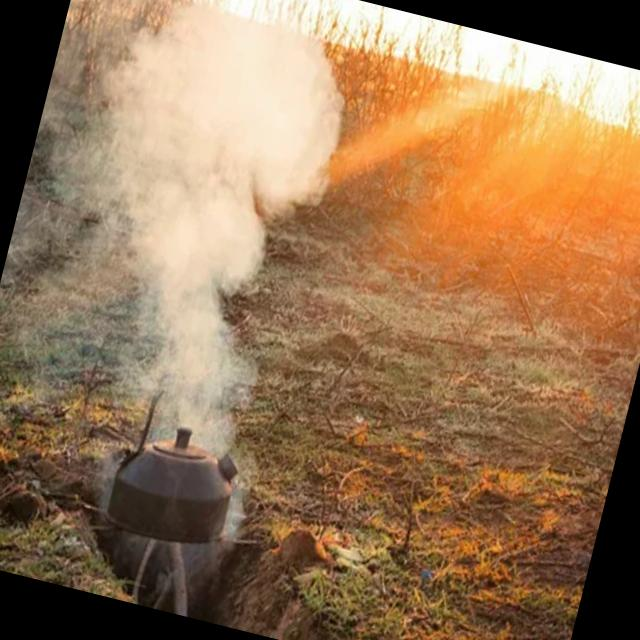Smoke: (35, 0, 366, 452)
